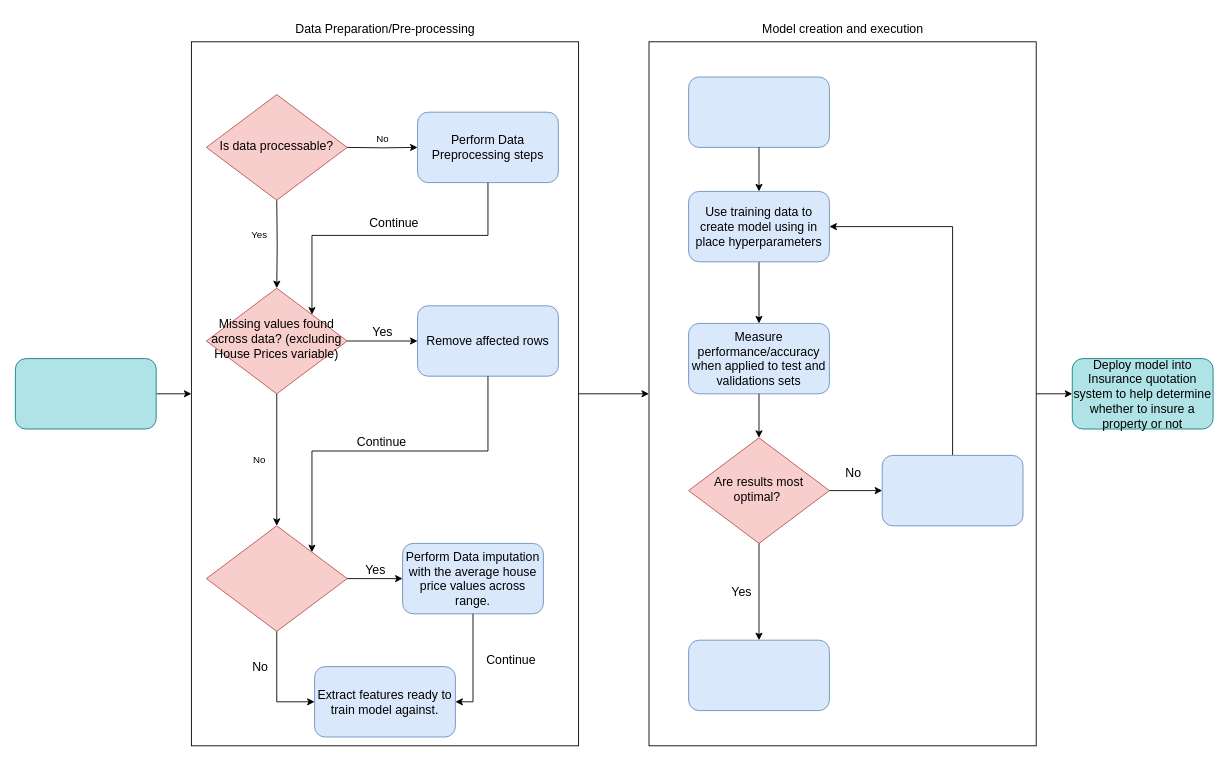
Image size: 1228x761. Some labels were removed from this diagram. Each missing label, with the box of its shape:
Access/Load raw Data: (15, 358, 156, 429)
Missing values found in target variable?: (205, 525, 347, 631)
Re-configure Hyperparameters ready for model creation.: (881, 455, 1023, 526)
Save Model, ready for deployment.: (688, 639, 829, 711)
Split features into Train, Test and Validation Datasets (where applicable): (688, 76, 829, 147)
